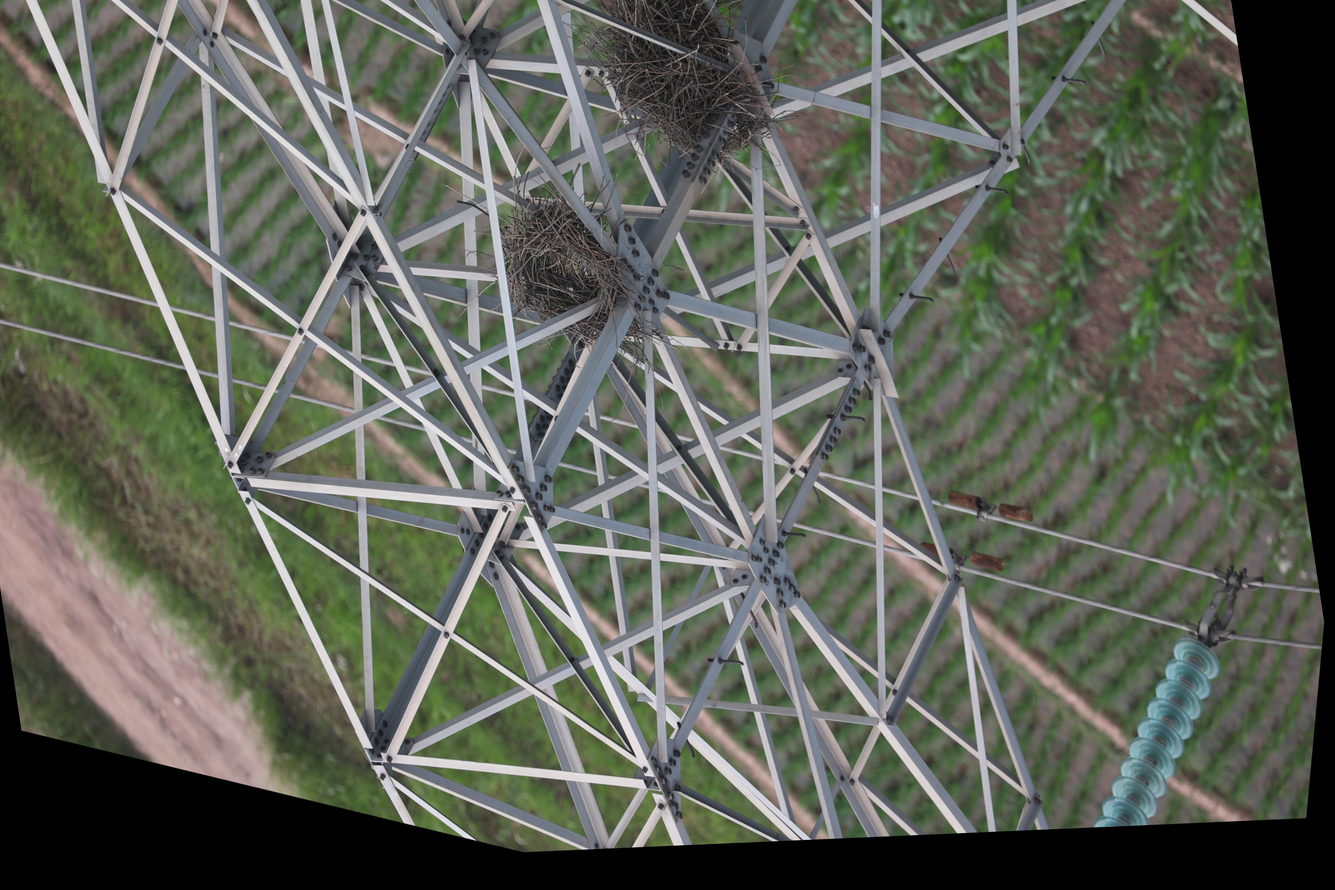damper_defect: (940, 481, 1042, 541), (915, 533, 1011, 581)
